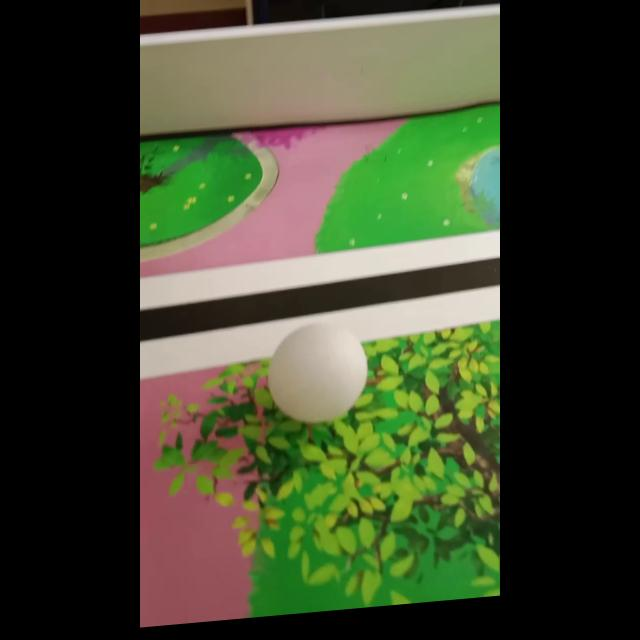white ball: (266, 316, 368, 428)
